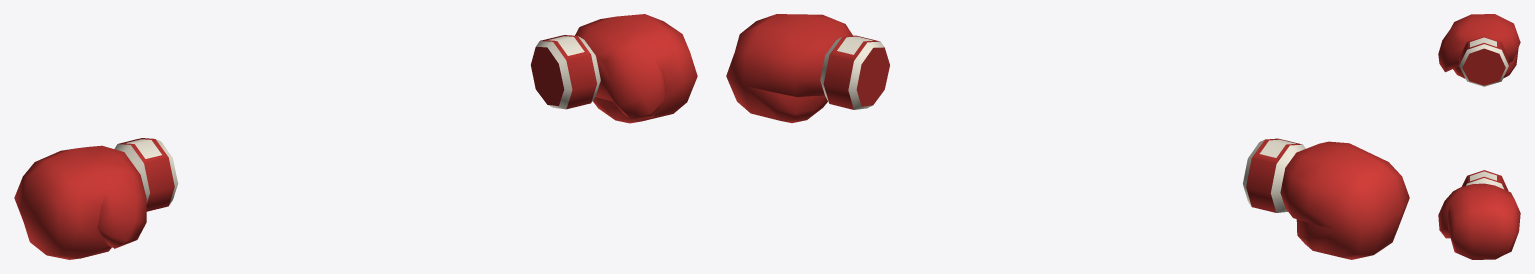
The model's file is Glove_13.fbx.
The picture shows the model from 3 angles, left to right: view 1: azimuth 30°, elevation 25°; view 2: azimuth 150°, elevation 25°; view 3: azimuth 270°, elevation 25°; orthographic projection. The views are drawn at different scales.
Parts seen in each view (by area): view 1: Glove_13; view 2: Glove_13; view 3: Glove_13.
Boxes of the visible parts, box(x1,y1,x2,y2) form: Glove_13: box(14, 14, 697, 259); Glove_13: box(726, 14, 1409, 259); Glove_13: box(1438, 14, 1520, 259).
Bounding box in the file's own units: 136 × 18.64 × 22.94.
